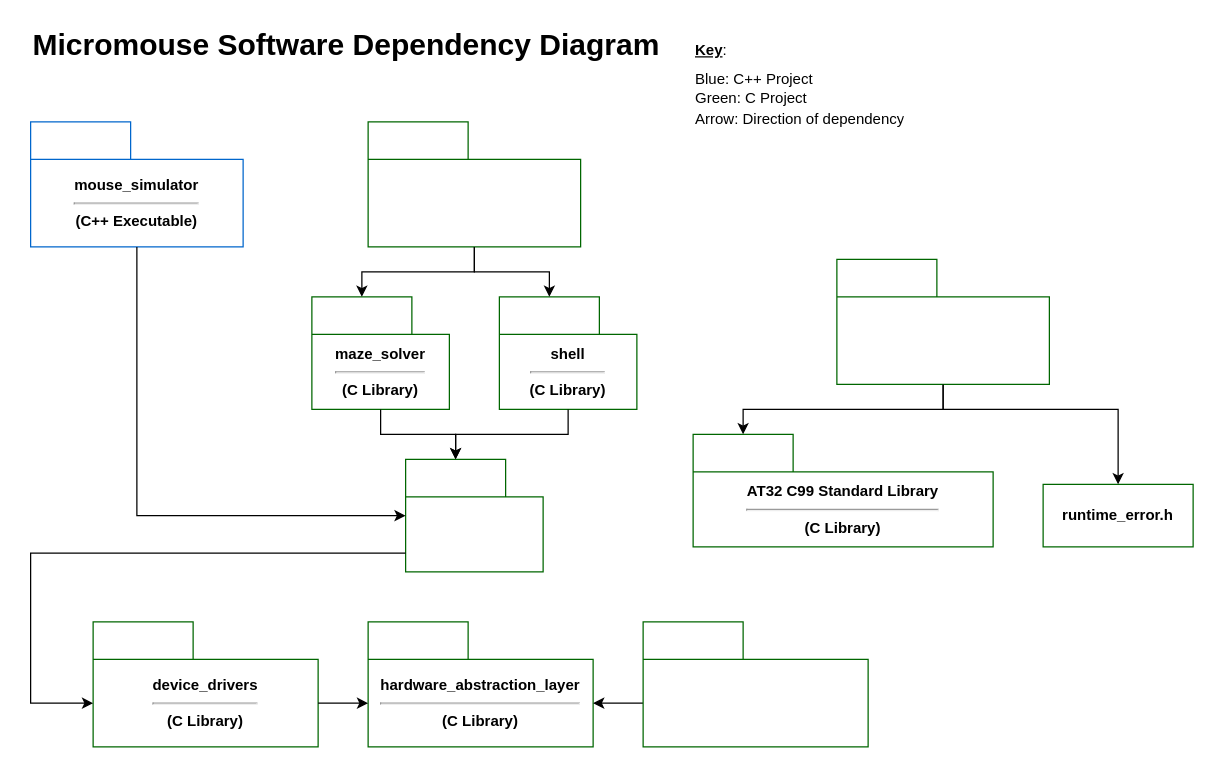
Some shapes in this 1215 by 769 pixel diagram are drawn without their labels. Each missing label, with the box of its shape:
... (All User C Libraries & Executable): (836, 258, 1049, 384)
at32uc3l0256_drivers (C Library): (642, 621, 868, 747)
mouse (C Executable): (367, 121, 581, 247)
mouse_drivers (C Library): (404, 458, 543, 572)
